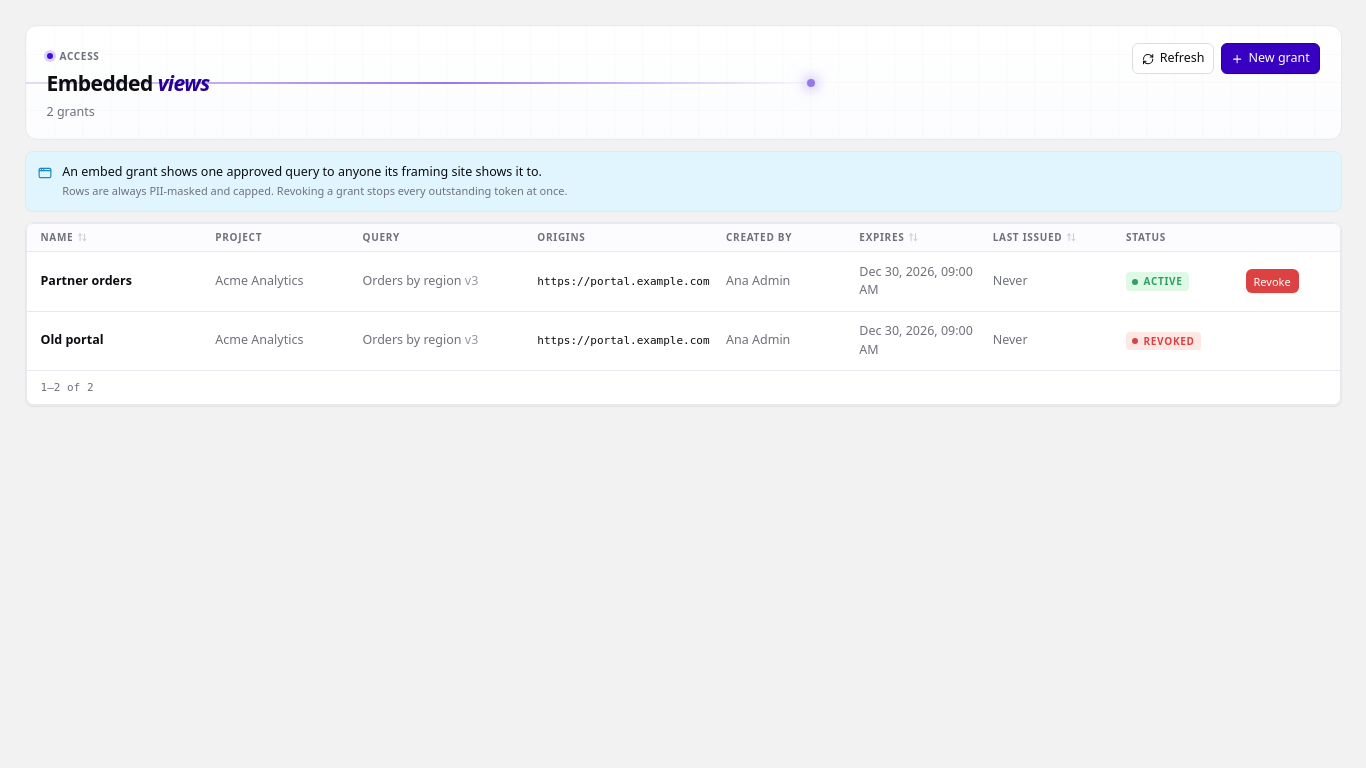
Test: EmbedsPage › revokes nothing when the confirmation is cancelled
Click the button "Revoke" at (1272, 281), box top-left (1246, 269), bottom-right (1299, 294)
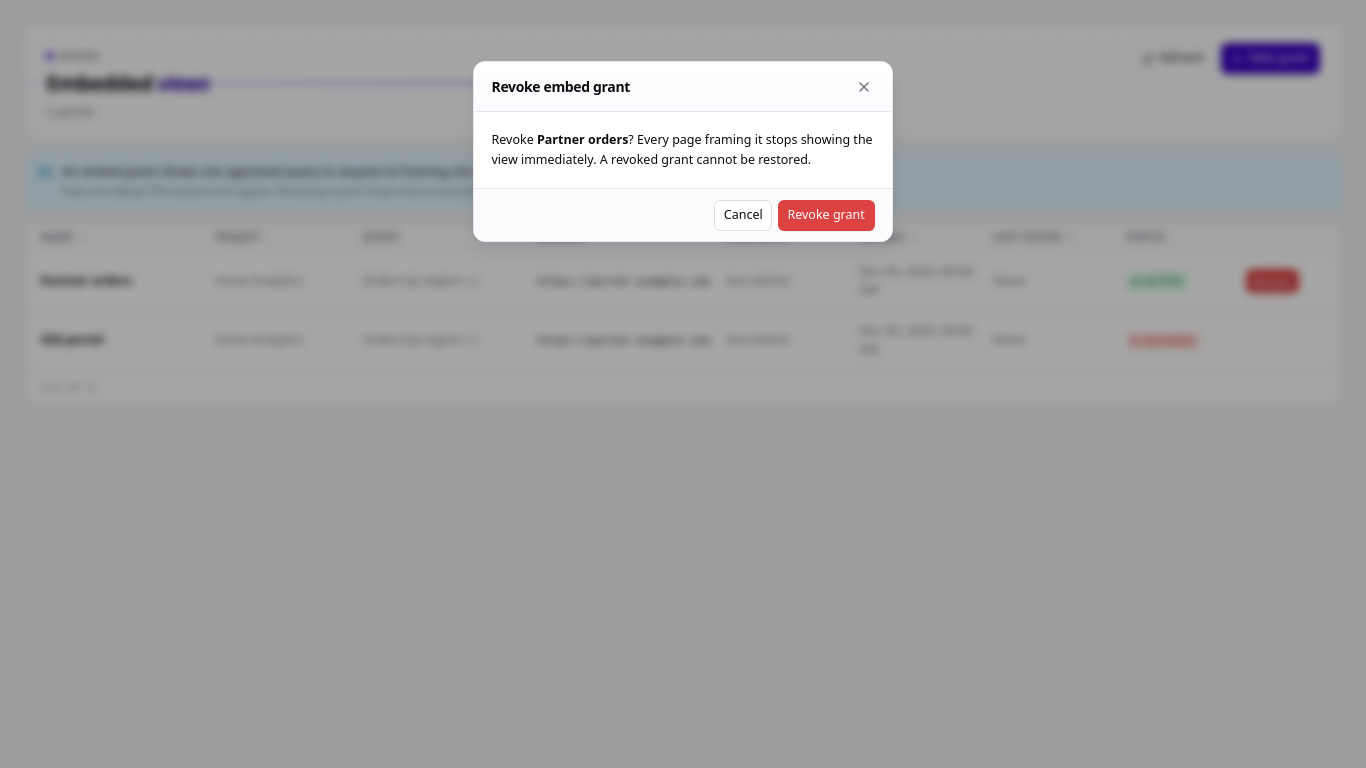
Click the button "Cancel" at (743, 215), box top-left (714, 200), bottom-right (772, 231)
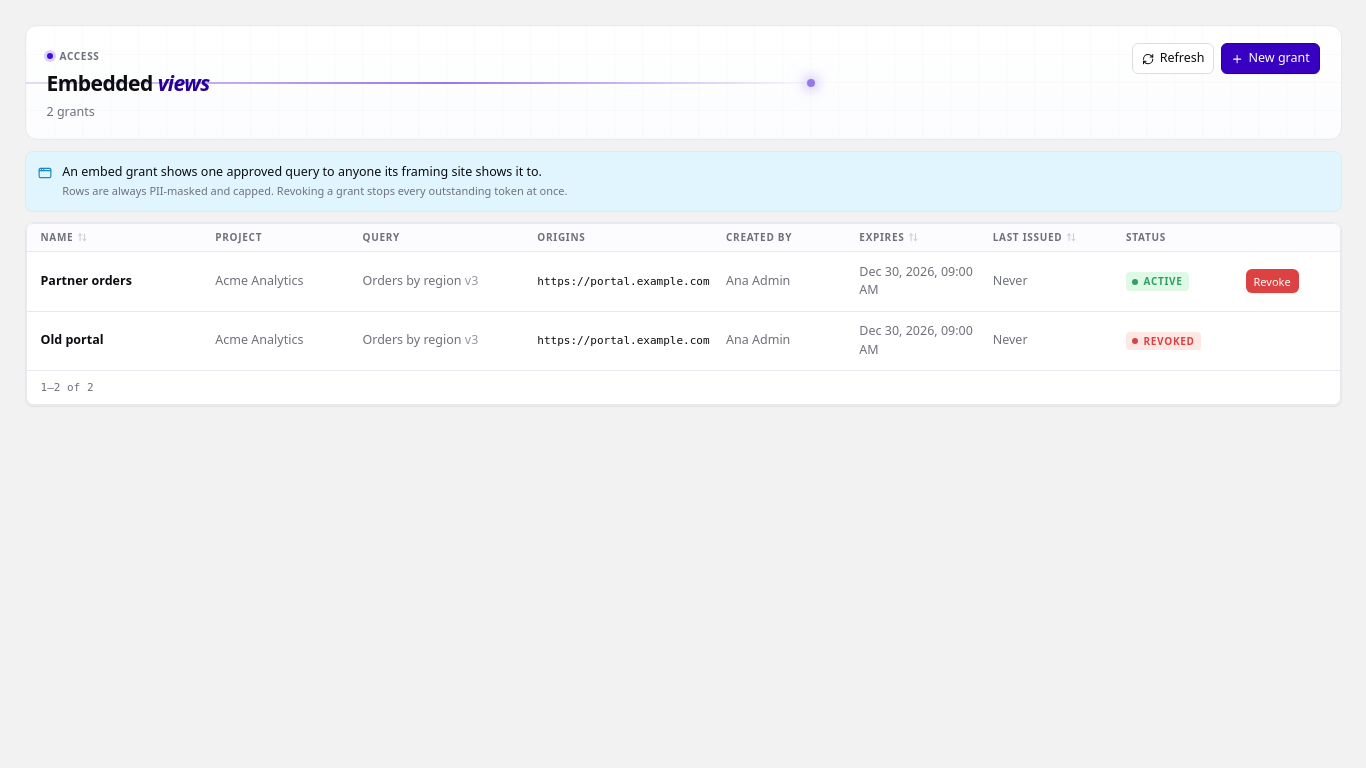
Now the dialog is gone
